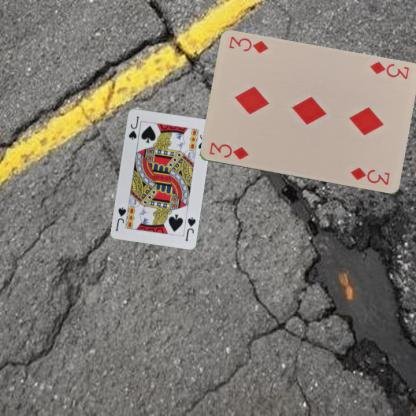3d: (206, 139, 250, 161), (367, 59, 410, 81)
Js: (126, 113, 140, 141), (182, 214, 196, 242)
